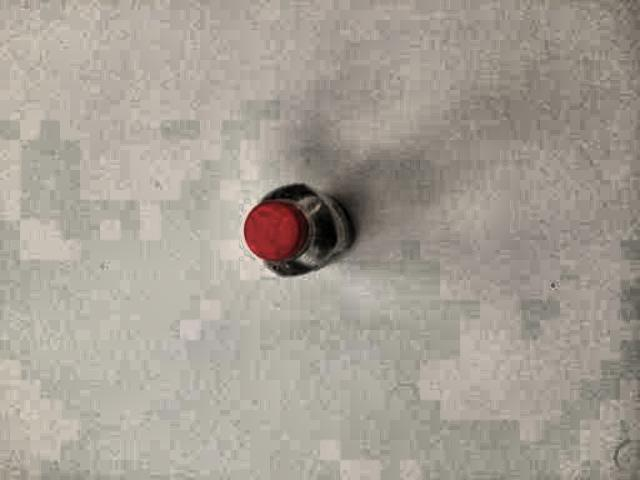Bottles: (213, 162, 363, 302)
